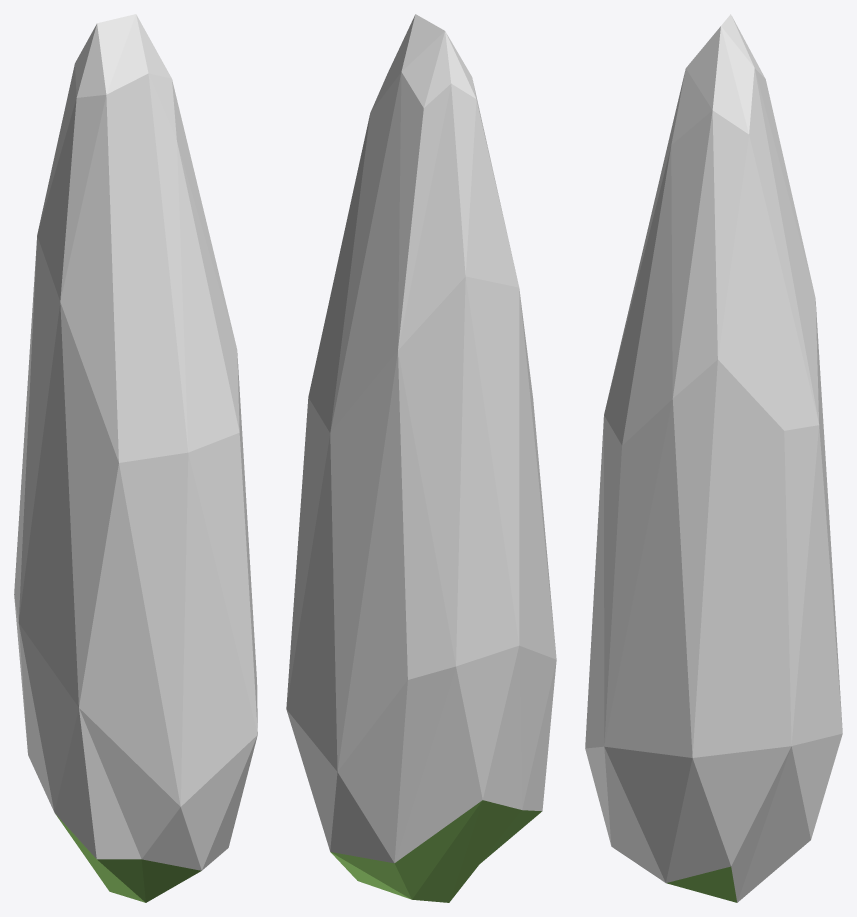
The model's file is Thuja_BushTree_m_Snow_02_LOD.fbx.
The picture shows the model from 3 angles, left to right: view 1: azimuth 30°, elevation 25°; view 2: azimuth 150°, elevation 25°; view 3: azimuth 270°, elevation 25°; orthographic projection. The views are drawn at different scales.
Visible parts, largest first — view 1: Thuja_BushTree_m_Snow_02_LOD0; view 2: Thuja_BushTree_m_Snow_02_LOD0; view 3: Thuja_BushTree_m_Snow_02_LOD0.
Boxes of the visible parts, x1=… form: Thuja_BushTree_m_Snow_02_LOD0: x1=14, y1=14, x2=257, y2=902; Thuja_BushTree_m_Snow_02_LOD0: x1=286, y1=14, x2=556, y2=902; Thuja_BushTree_m_Snow_02_LOD0: x1=585, y1=14, x2=842, y2=902.
Size of what is drawn, in the model's own units: 114 by 438 by 118.
